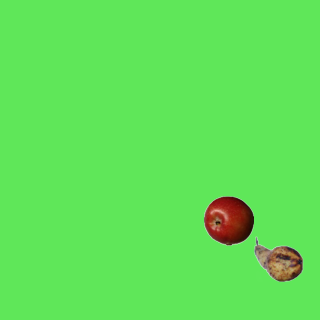Apple Braeburn: (203, 195, 253, 245)
Pear Abate: (253, 234, 303, 284)
